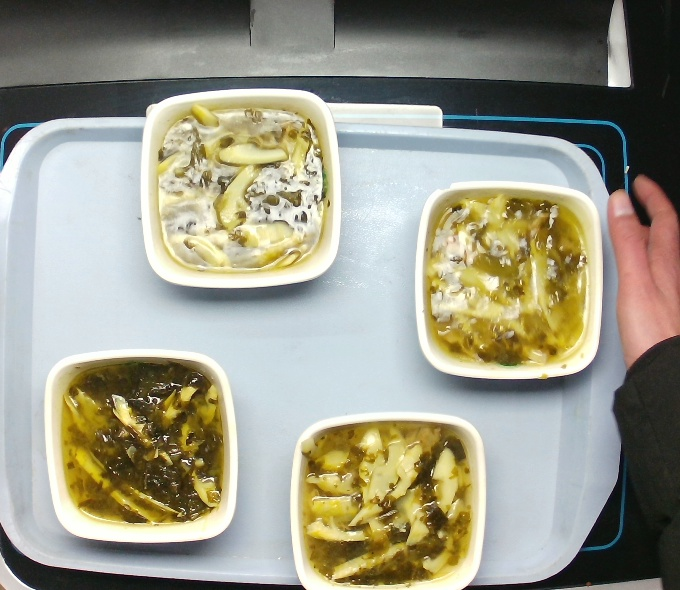wcq-DongSunTang: (153, 99, 327, 275), (297, 420, 477, 589), (424, 190, 591, 372), (54, 358, 229, 531)
